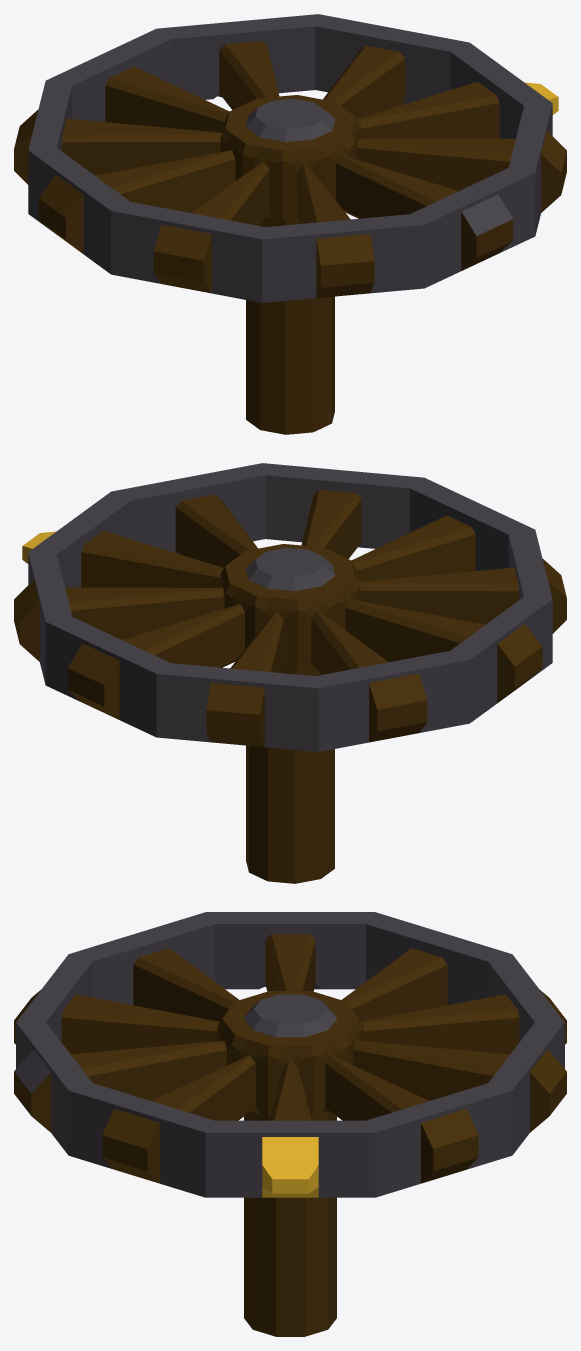
Rendered from shipsWheelFixed.fbx.
The picture shows the model from 3 angles, top to bottom: view 1: azimuth 30°, elevation 25°; view 2: azimuth 150°, elevation 25°; view 3: azimuth 270°, elevation 25°; orthographic projection. The views are drawn at different scales.
Parts seen in each view (by area): view 1: Cylinder; view 2: Cylinder; view 3: Cylinder.
Boxes of the visible parts, bbox=[...] form: Cylinder: bbox=[14, 14, 566, 434]; Cylinder: bbox=[14, 463, 566, 883]; Cylinder: bbox=[14, 912, 566, 1336].
Size of the model in its own units: 806 by 468 by 758.
